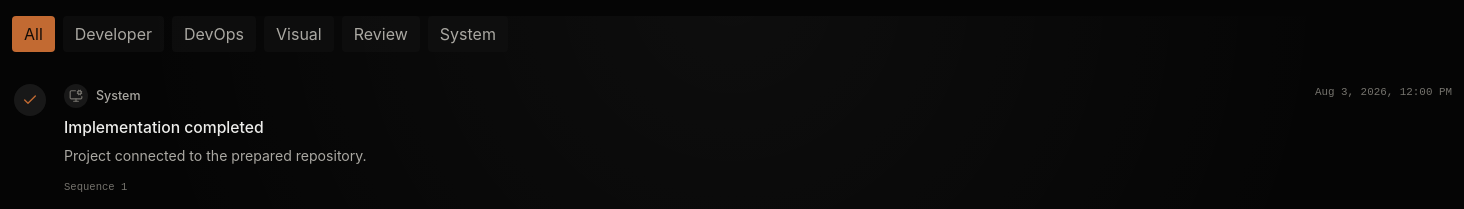
Test case: activity timeline filters › renders a safe empty state when the selected filter has no events
Click the button "Visual".
click(299, 34)  # box left=264, top=16, right=334, bottom=52
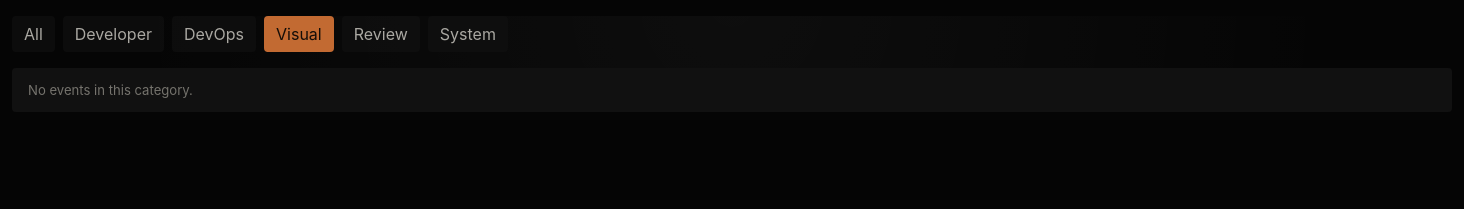
Expected: the text "No events in this category." is shown, left=12, top=68, right=1452, bottom=112
